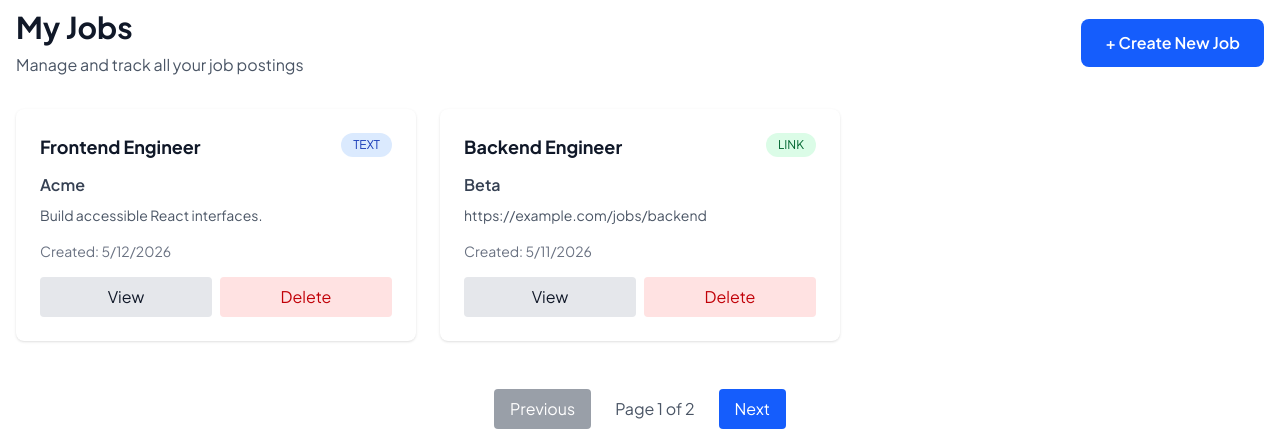
Test: JobsPageContent › loads the next page when pagination is used
Expected: the heading "Frontend Engineer" is shown, [40,133,201,161]
Click the button "Next": (752, 409) [718,389,786,429]
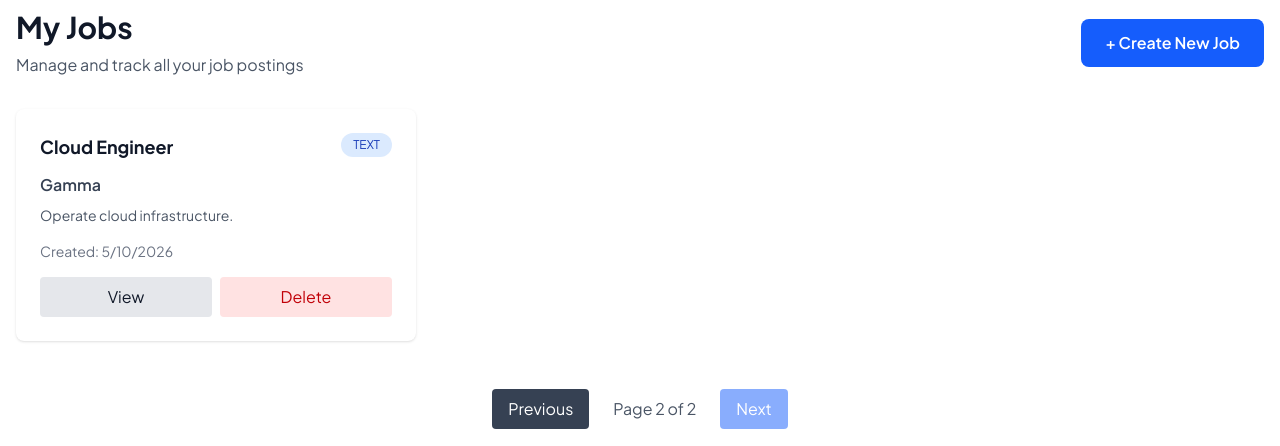
Expected: the heading "Cloud Engineer" is shown, [40,133,173,161]
Expected: the heading "Frontend Engineer" is gone
